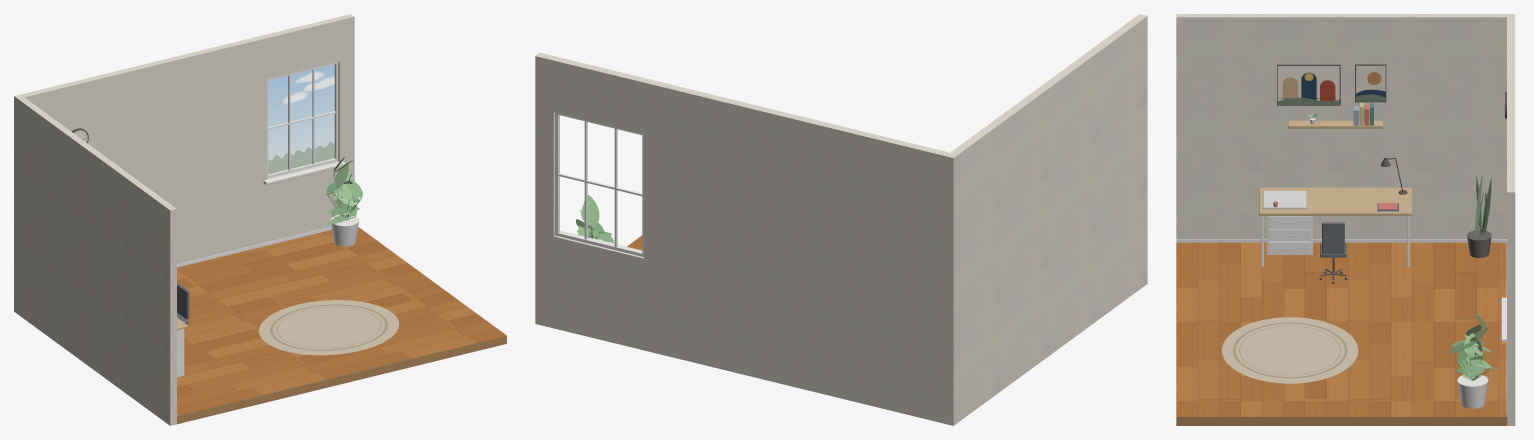
The model's file is oda.glb.
3 views of the same model, side by side, from view 1: azimuth 30°, elevation 25°; view 2: azimuth 150°, elevation 25°; view 3: azimuth 270°, elevation 25° (orthographic). The views are drawn at different scales.
Parts seen in each view (by area): view 1: Oda, Gokyuzu; view 2: Oda; view 3: Oda.
Part boxes in pixels (left/top/right/bottom): Oda: left=14, top=14, right=506, bottom=425; Gokyuzu: left=268, top=64, right=334, bottom=174; Oda: left=535, top=14, right=1147, bottom=425; Oda: left=1176, top=14, right=1515, bottom=425.
Size of the model in its own units: 10.2 by 6.24 by 8.3.
30 materials, 16 textured.
